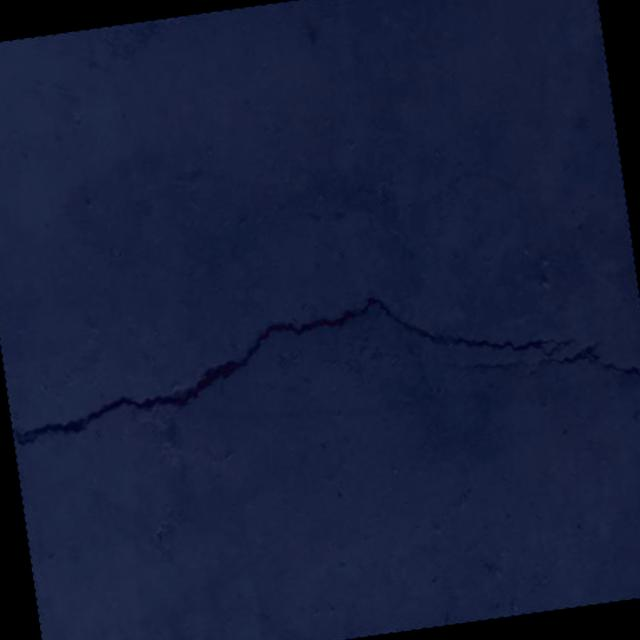crack: (1, 258, 640, 465)
